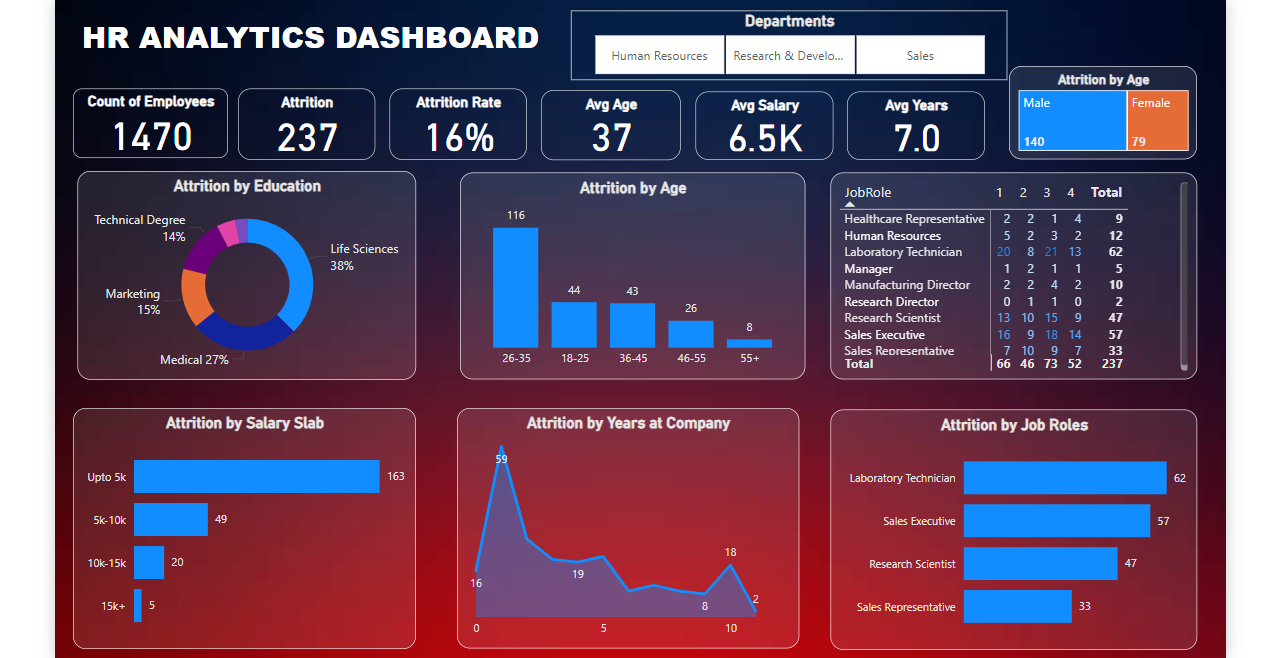

The page's visual inventory and layout, read from the dashboard file:
{"tool":"powerbi","page":{"name":"Page 1","canvas":[1280,720],"ordinal":0},"visuals":[{"type":"card","title":"Count of Employees","fields":{"Values":["CountNonNull(HR_Analytics.EmpID)"]},"box":[19.5,97.3,169.3,75.9],"z":0},{"type":"card","title":"Attrition ","fields":{"Values":["Sum(HR_Analytics.AttritionCount)"]},"box":[200.5,97.3,149.9,77.9],"z":1000},{"type":"card","title":"Attrition Rate","fields":{"Values":["HR_Analytics.AttritionRate"]},"box":[365.9,97.3,149.9,77.9],"z":2000},{"type":"card","title":"Avg Age","fields":{"Values":["Avg(HR_Analytics.Age)"]},"box":[530.9,98.2,152.7,76.4],"z":3000},{"type":"card","title":"Avg Salary","fields":{"Values":["Avg(HR_Analytics.MonthlyIncome)"]},"box":[700,100,150.9,74.5],"z":4000},{"type":"card","title":"Avg Years","fields":{"Values":["Avg(HR_Analytics.YearsAtCompany)"]},"box":[865.5,100,150.9,74.5],"z":5000},{"type":"donutChart","title":"Attrition by Education","fields":{"Category":["HR_Analytics.EducationField"],"Y":["Sum(HR_Analytics.AttritionCount)"]},"box":[25.3,186.8,369.8,227.7],"z":6000},{"type":"columnChart","title":"Attrition by Age","fields":{"Category":["HR_Analytics.AgeGroup"],"Y":["Sum(HR_Analytics.AttritionCount)"]},"box":[441.8,188.8,377.6,225.8],"z":7000},{"type":"pivotTable","fields":{"Rows":["HR_Analytics.JobRole"],"Columns":["HR_Analytics.JobSatisfaction"],"Values":["Sum(HR_Analytics.AttritionCount)"]},"box":[846.6,188.8,400.9,225.8],"z":8000},{"type":"barChart","title":"Attrition by Salary Slab","fields":{"Category":["HR_Analytics.SalarySlab"],"Y":["Sum(HR_Analytics.AttritionCount)"]},"box":[20,445.5,374.5,263.6],"z":9000},{"type":"barChart","title":"Attrition by Job Roles","fields":{"Category":["HR_Analytics.JobRole"],"Y":["Sum(HR_Analytics.AttritionCount)"]},"box":[846.6,447.7,400.9,262.8],"z":10000},{"type":"areaChart","title":"Attrition by Years at Company","fields":{"Category":["HR_Analytics.YearsAtCompany"],"Y":["Sum(HR_Analytics.AttritionCount)"]},"box":[439.9,445.7,373.7,262.8],"z":11000},{"type":"treemap","title":"Attrition by Age","fields":{"Group":["HR_Analytics.Gender"],"Values":["Sum(HR_Analytics.AttritionCount)"]},"box":[1041.8,72.7,205.5,101.8],"z":12000},{"type":"slicer","title":"Departments","fields":{"Values":["HR_Analytics.Department"]},"box":[564.4,11.7,476.8,75.9],"z":13000},{"type":"textbox","box":[25.3,11.7,570.3,75.9],"z":14000}]}

Visuals, with their boxes on the page's 1280x720 design canvas (x1, y1, x2, y2). These are canvas units, not pixel positions in the 1261x658 screenshot, which may show the page scaled, cropped or inside an application window:
"Count of Employees" card: (left=20, top=97, right=189, bottom=173)
"Attrition " card: (left=200, top=97, right=350, bottom=175)
"Attrition Rate" card: (left=366, top=97, right=516, bottom=175)
"Avg Age" card: (left=531, top=98, right=684, bottom=175)
"Avg Salary" card: (left=700, top=100, right=851, bottom=174)
"Avg Years" card: (left=866, top=100, right=1016, bottom=174)
"Attrition by Education" donutChart: (left=25, top=187, right=395, bottom=414)
"Attrition by Age" columnChart: (left=442, top=189, right=819, bottom=415)
pivotTable - HR_Analytics.JobRole x HR_Analytics.JobSatisfaction: (left=847, top=189, right=1248, bottom=415)
"Attrition by Salary Slab" barChart: (left=20, top=446, right=394, bottom=709)
"Attrition by Job Roles" barChart: (left=847, top=448, right=1248, bottom=710)
"Attrition by Years at Company" areaChart: (left=440, top=446, right=814, bottom=708)
"Attrition by Age" treemap: (left=1042, top=73, right=1247, bottom=174)
"Departments" slicer: (left=564, top=12, right=1041, bottom=88)
textbox: (left=25, top=12, right=596, bottom=88)
